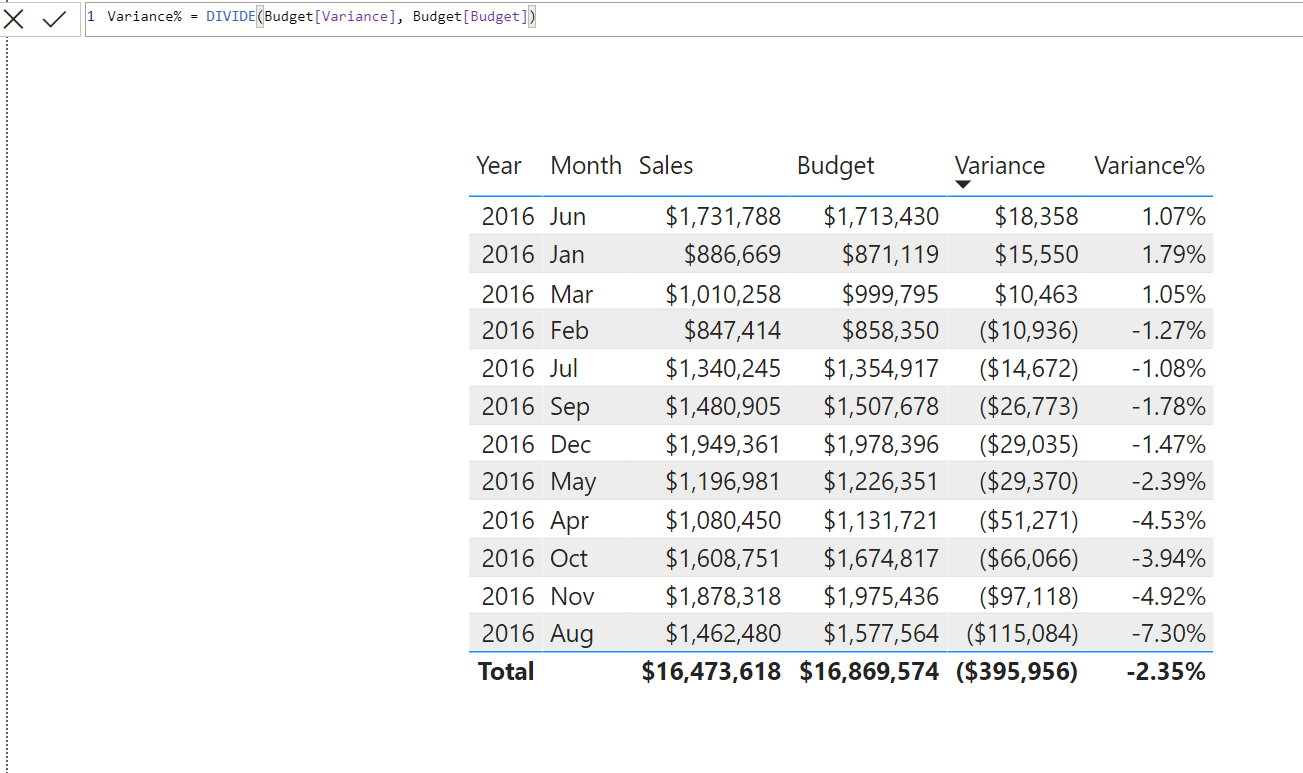

Layout of this report page (visuals, bound fields, positions):
{"tool":"powerbi","page":{"name":"DAX","canvas":[1280,720],"ordinal":0},"visuals":[{"type":"tableEx","fields":{"Values":["Calendar.Year","Calendar.Month","Sales.Sales","Budget.Budget","Budget.Variance","Budget.Variance%"]},"box":[18.5,98.5,730.8,501.5],"z":0},{"type":"card","fields":{"Values":["Sales.Sales"]},"box":[845.6,62,299.3,175.3],"z":1000}]}

Visuals, with their boxes on the page's 1280x720 design canvas (x1, y1, x2, y2). These are canvas units, not pixel positions in the 1303x773 screenshot, which may show the page scaled, cropped or inside an application window:
tableEx - Calendar.Year x Calendar.Month: (left=18, top=98, right=749, bottom=600)
card - Sales.Sales: (left=846, top=62, right=1145, bottom=237)
